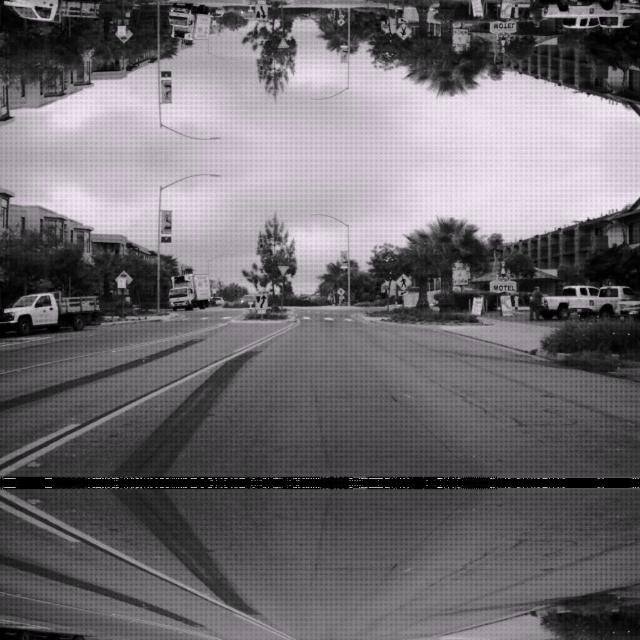pedestrianCrossing: (394, 272, 412, 290), (394, 22, 412, 40)
yield: (277, 264, 289, 274), (277, 38, 289, 48)
